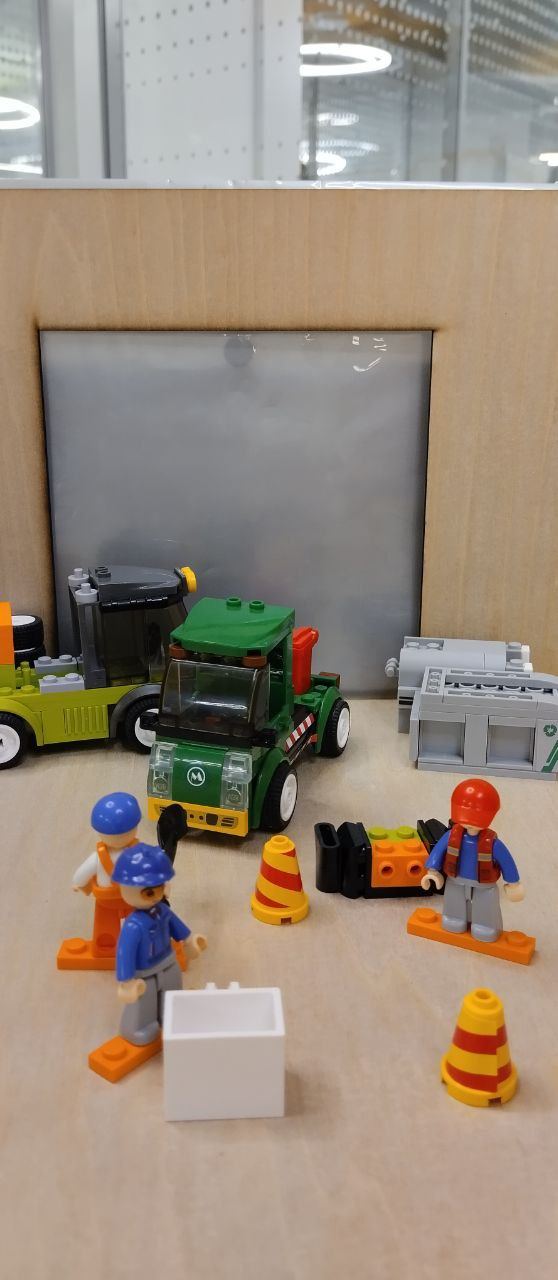Cone: (440, 986, 521, 1108), (255, 836, 315, 928)
Crane: (0, 557, 208, 766)
Object Black: (310, 821, 481, 898)
Object Red: (276, 626, 321, 697)
Object white: (161, 981, 290, 1124)
Truck: (148, 591, 353, 839)
